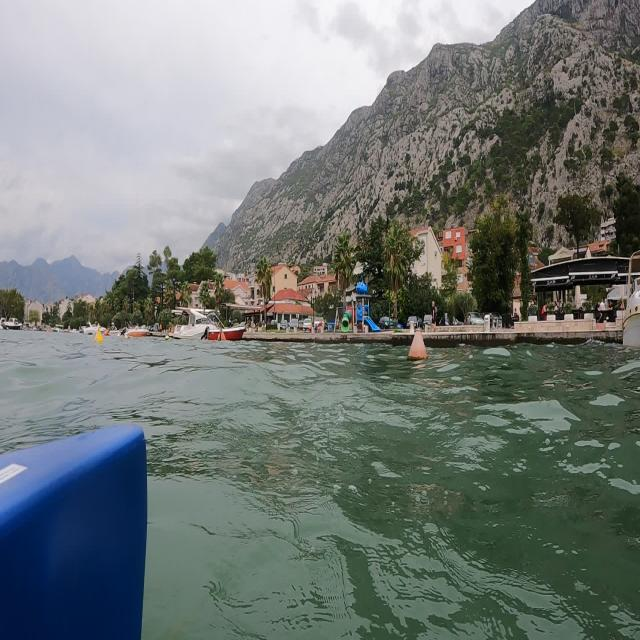boat: (163, 299, 250, 352)
buoy: (404, 326, 430, 369), (92, 322, 106, 350)
